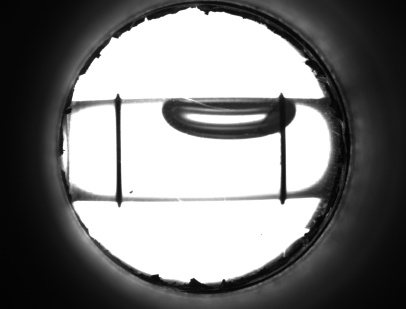line: (110, 113, 128, 188), (276, 140, 292, 190)
